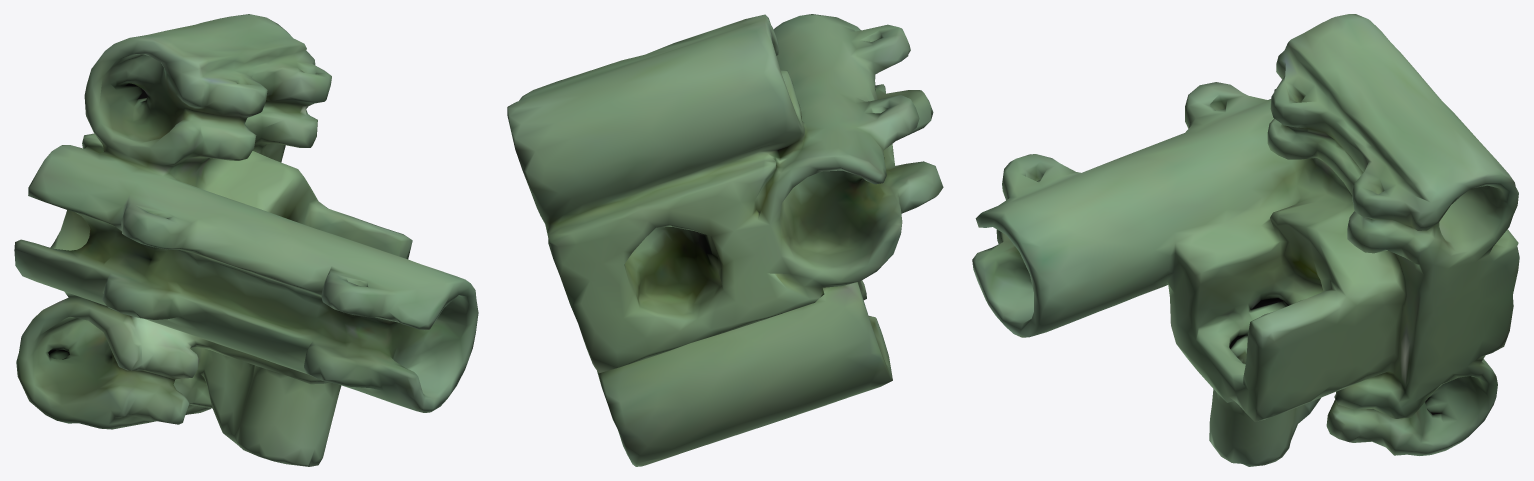
The model's file is textured_simplified.obj.
3 views of the same model, side by side, from view 1: azimuth 30°, elevation 25°; view 2: azimuth 150°, elevation 25°; view 3: azimuth 270°, elevation 25° (orthographic). The views are drawn at different scales.
Size of the model in its own units: 0.0701 by 0.0781 by 0.0966.
